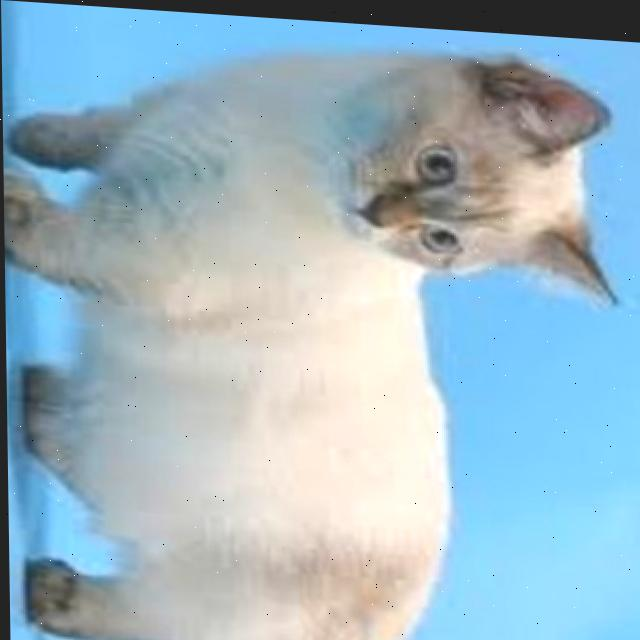Munchkin: (0, 15, 628, 640)
